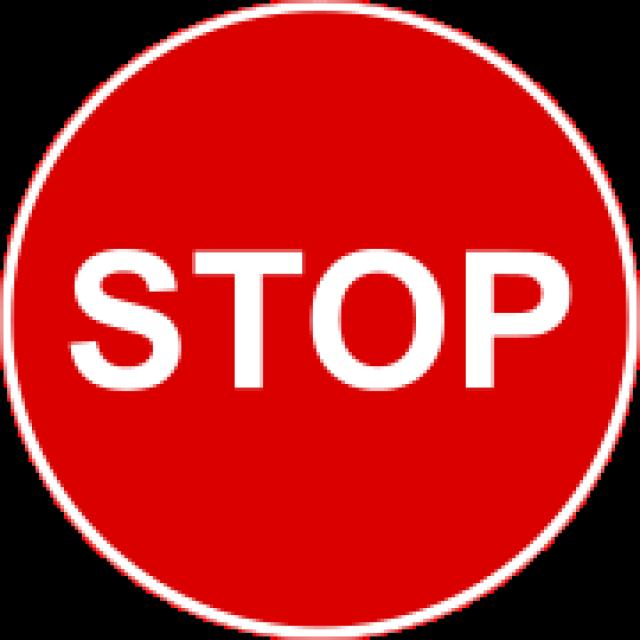Traffic sign: (33, 48, 617, 581)
